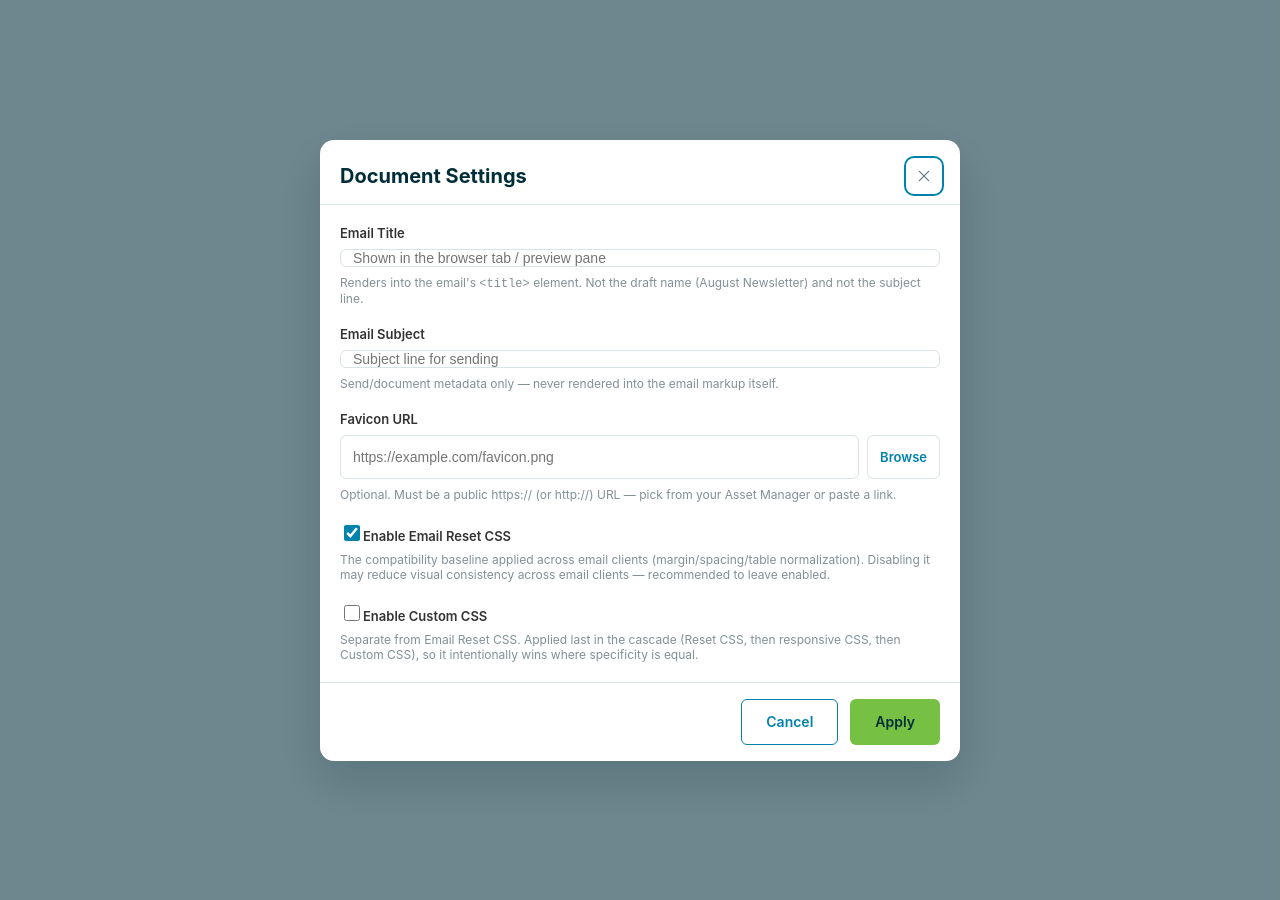
DocumentSettingsDialog › a favicon URL missing http(s):// shows an inline error and blocks Apply
Type "ftp://example.com/fav.png" into the field labelled "Favicon URL" at (600, 456), box left=340, top=434, right=859, bottom=478
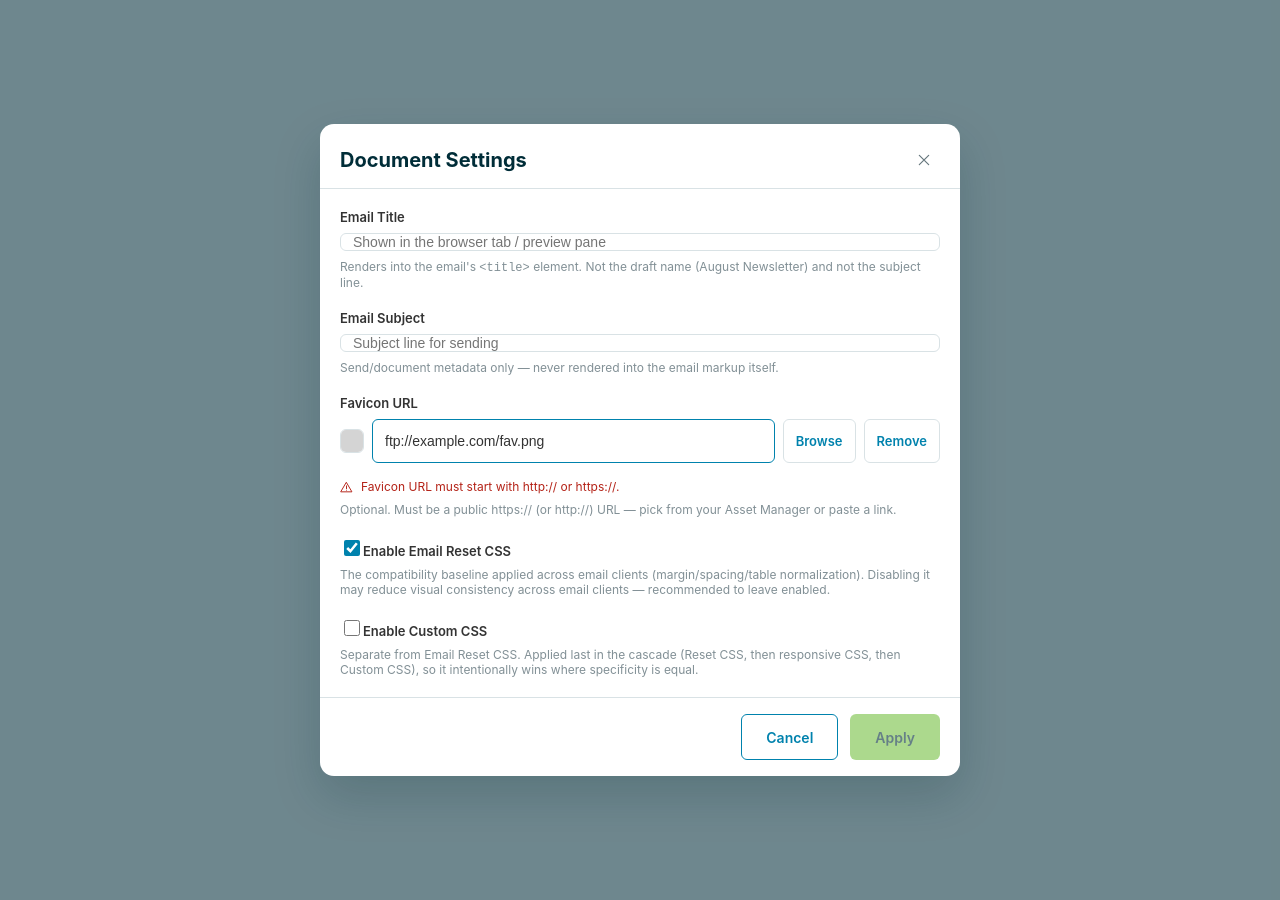
expect the text "Favicon URL must start with http:// or https://." is shown: met, box left=340, top=479, right=619, bottom=494
expect the button "Apply" is disabled: met, box left=850, top=714, right=940, bottom=760
